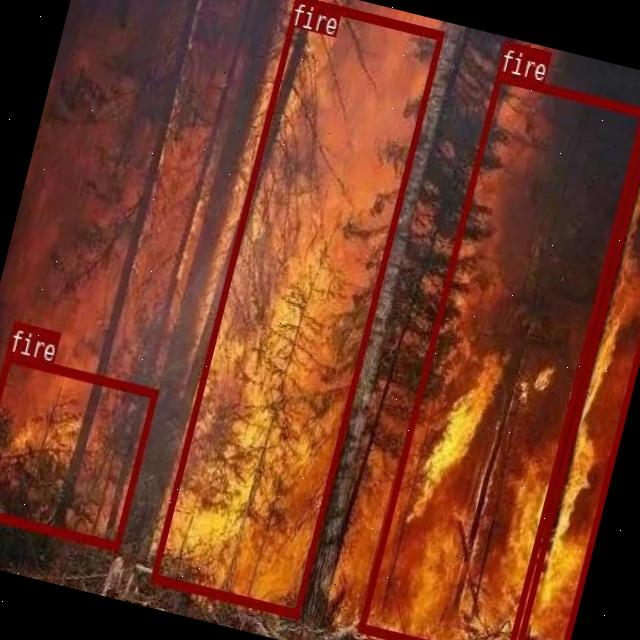fire: (149, 0, 443, 617), (357, 71, 640, 640), (516, 83, 640, 640), (0, 351, 156, 548)
